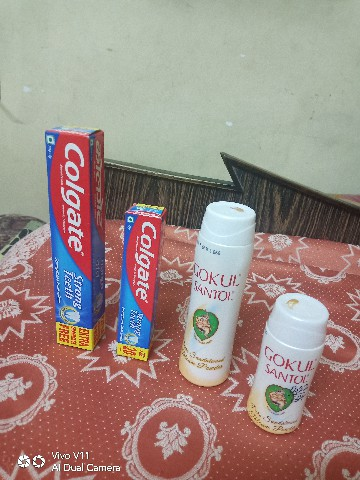colgatetoothpaste big: (38, 115, 115, 364)
colgatetoothpaste small: (114, 195, 164, 370)
gokulsantol big: (174, 191, 253, 402)
gokulsantol small: (249, 283, 334, 453)
